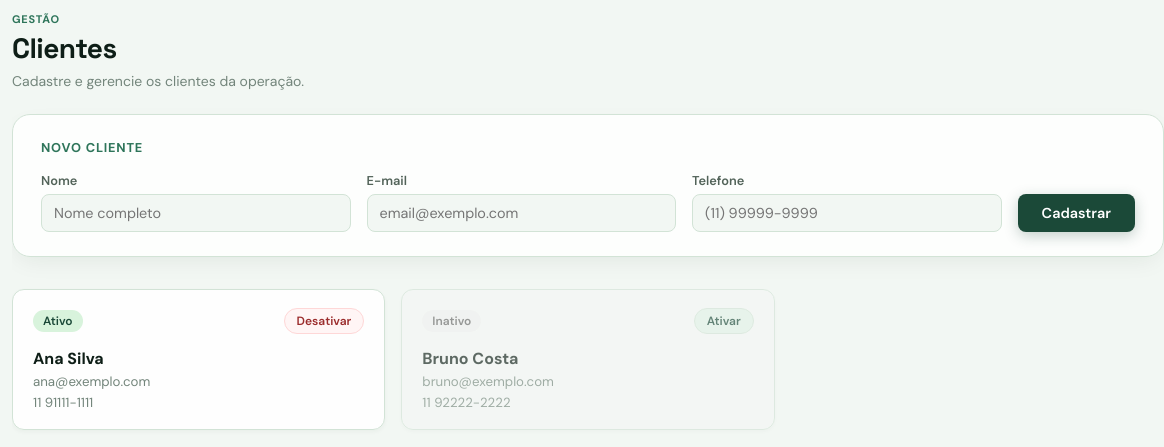
Scenario: CustomersPage › cadastra cliente válido e atualiza a lista reativamente
Expected: the text "Ana Silva" is shown, left=33, top=348, right=104, bottom=369
Type "Carla Dias" into the field labelled "Nome". click: (196, 213)
box: left=41, top=194, right=350, bottom=232
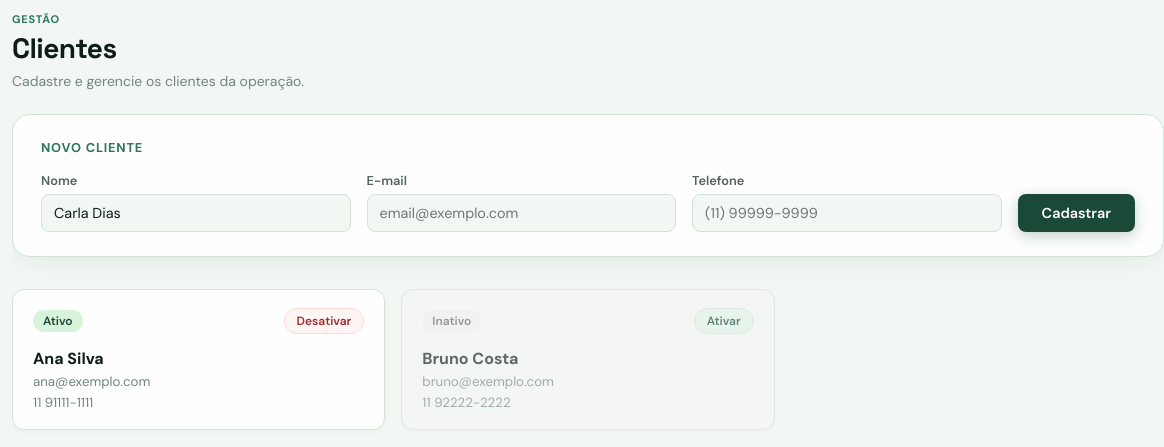
Type "carla@exemplo.com" into the field labelled "E-mail". click: (521, 213)
box: left=366, top=194, right=676, bottom=232
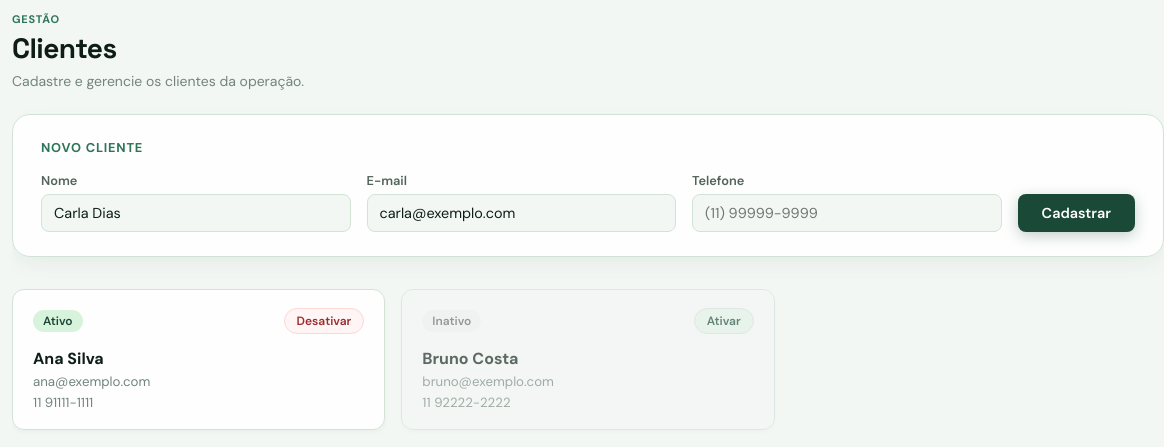
Type "11 93333-3333" into the field labelled "Telefone". click: (847, 213)
box: left=692, top=194, right=1002, bottom=232
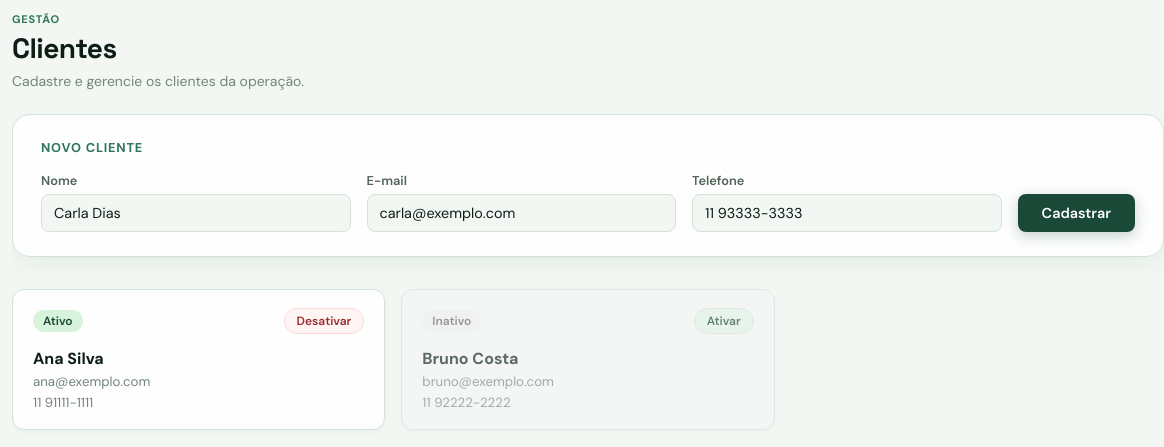
Click the button "Cadastrar". click: (1076, 213)
box: left=1018, top=194, right=1135, bottom=232
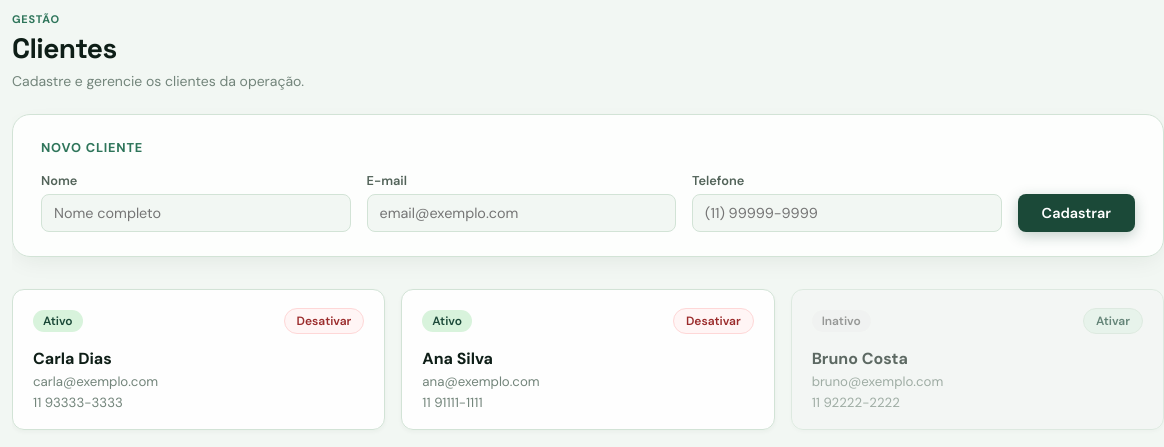
Now the text "Carla Dias" is shown, box left=33, top=348, right=112, bottom=369
